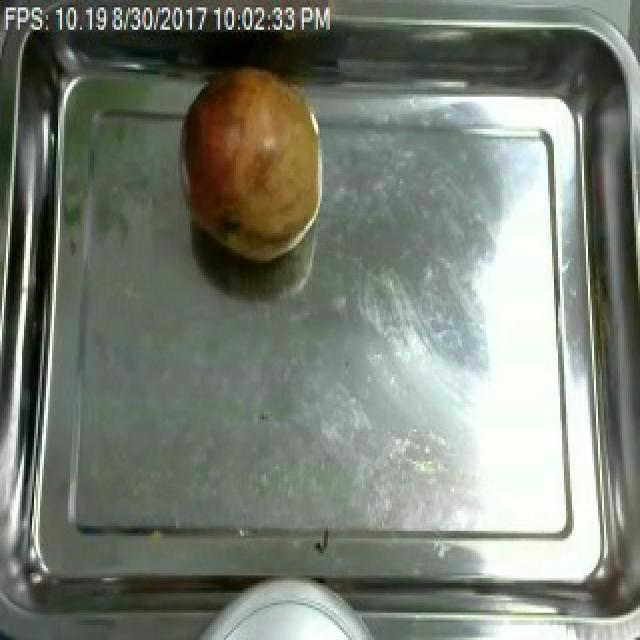fruit: (174, 57, 330, 270)
